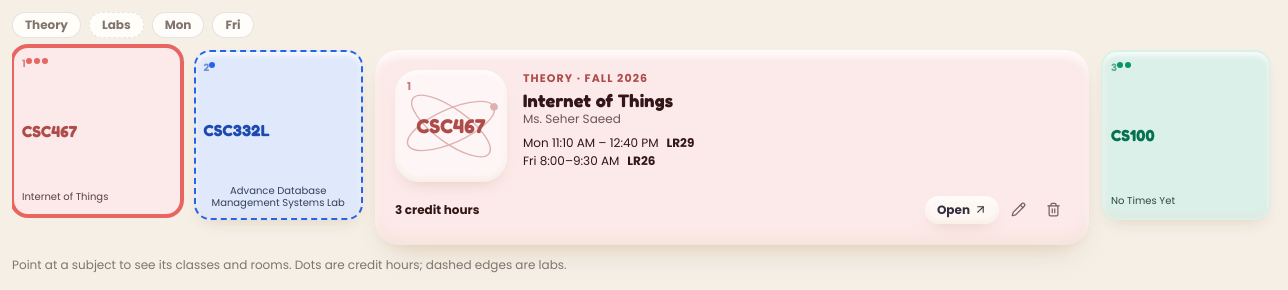
it: pointing at another subject shows its classes, and TBA when there is no teacher
Step 1. Hover over the button "2 CSC332L Advance Database Management Systems Lab" → (278,135), box [194, 50, 363, 220]
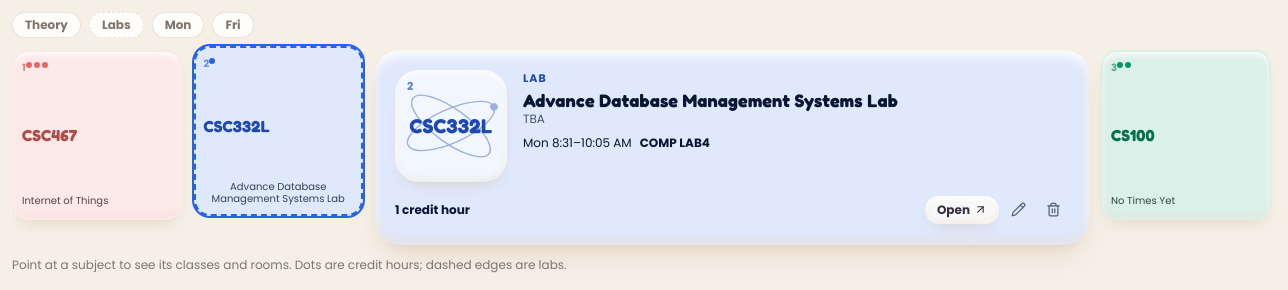
expect the text "Mon 8:31–10:05 AM" is shown: met, box [523, 135, 632, 151]
expect the text "COMP LAB4" is shown: met, box [640, 135, 710, 151]
expect the text "TBA" is shown: met, box [523, 110, 545, 127]
